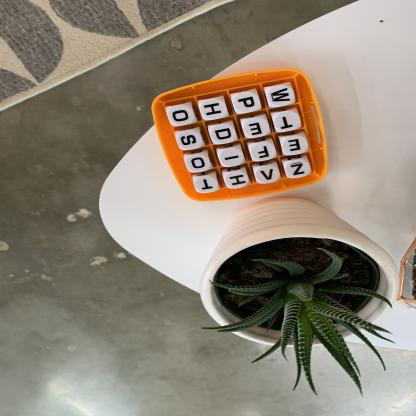d: (211, 125, 237, 145)
e: (244, 118, 271, 139), (282, 136, 310, 156)
f: (252, 143, 277, 162)
h: (202, 100, 228, 121), (225, 172, 249, 189)
i: (219, 149, 245, 168)
o: (169, 105, 195, 125), (187, 156, 212, 174)
p: (234, 92, 261, 114)
s: (177, 131, 204, 150)
t: (276, 112, 302, 132), (195, 177, 220, 194)
v: (256, 166, 281, 184)
w: (267, 85, 295, 107)
z: (286, 161, 311, 178)
